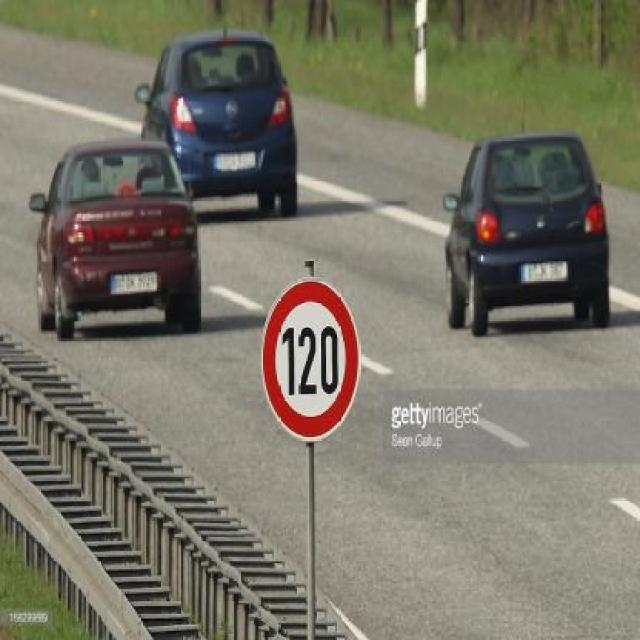forb_speed_over_120: (260, 283, 360, 442)
